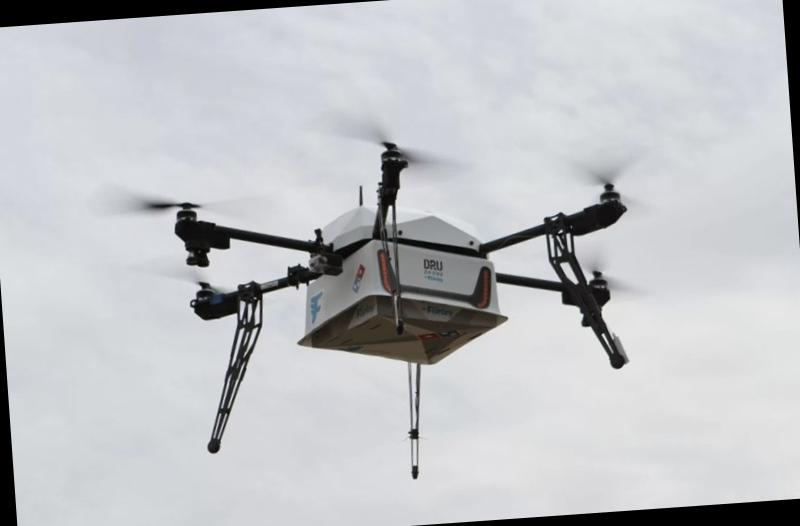drone: (115, 119, 693, 415)
